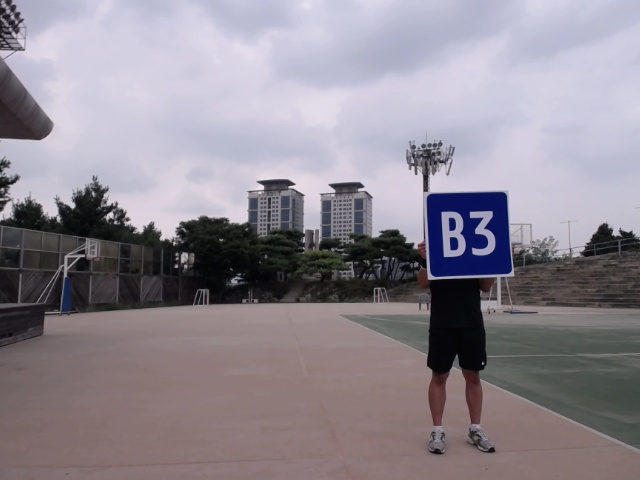delivery_b3: (423, 189, 516, 279)
